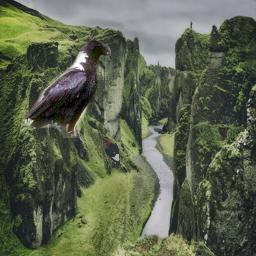Crow: (20, 36, 111, 138)
Woodpecker: (101, 138, 123, 169)
